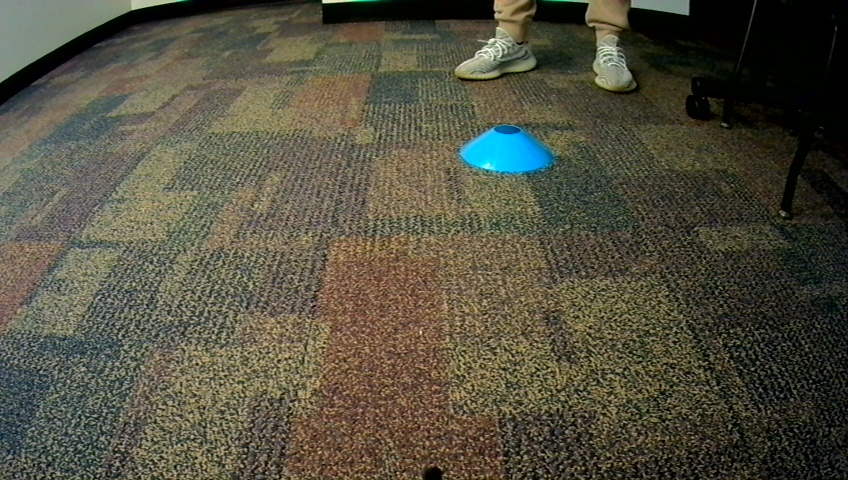cone: (457, 121, 557, 177)
